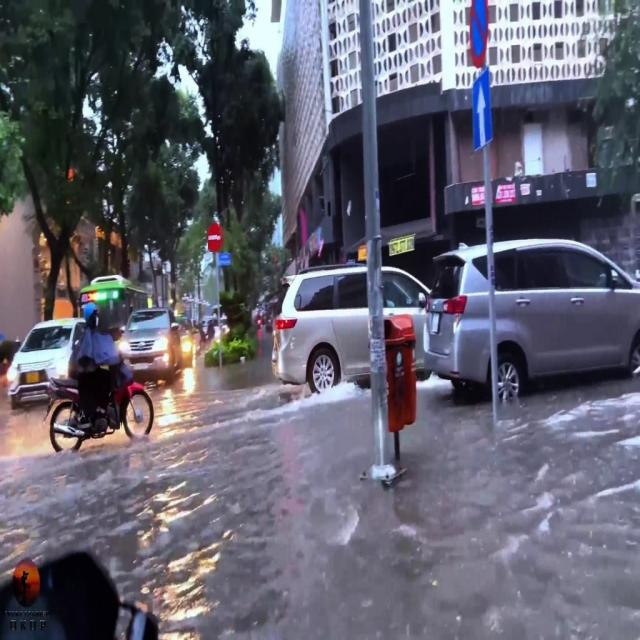cam_do_xe: (470, 2, 488, 67)
cam_xe_di_nguoc_chieu: (208, 224, 224, 252)
duong_mot_chieu: (471, 68, 493, 152)
